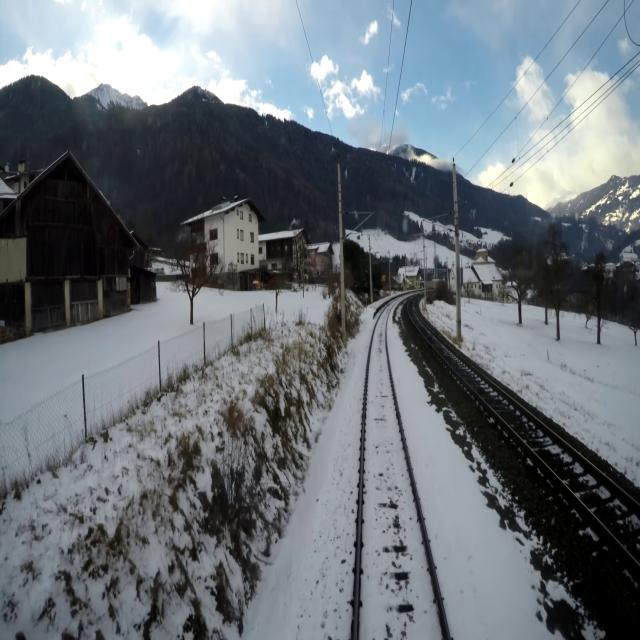rail-track: (408, 299, 640, 560), (358, 305, 446, 639)
